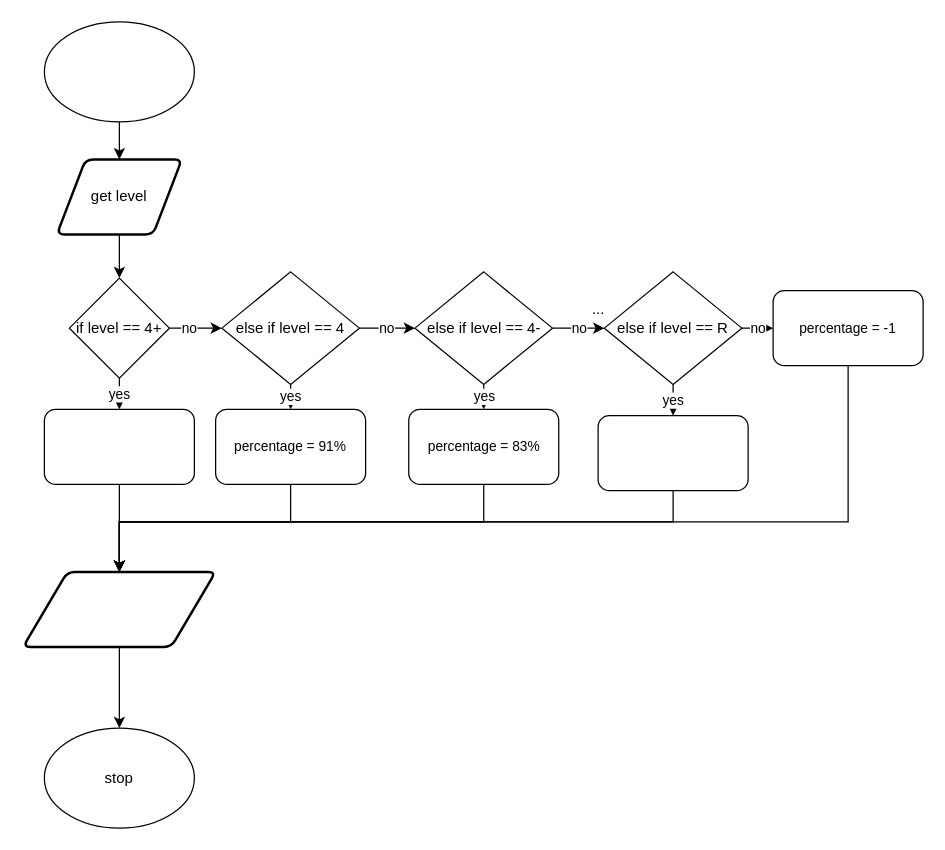
Some shapes in this 945 by 850 pixel diagram are drawn without their labels. Each missing label, with the centre of its shape:
level(): (118,71)
percentage = 30%: (672,452)
percentage = 97%: (118,446)
show percentage: (118,609)
